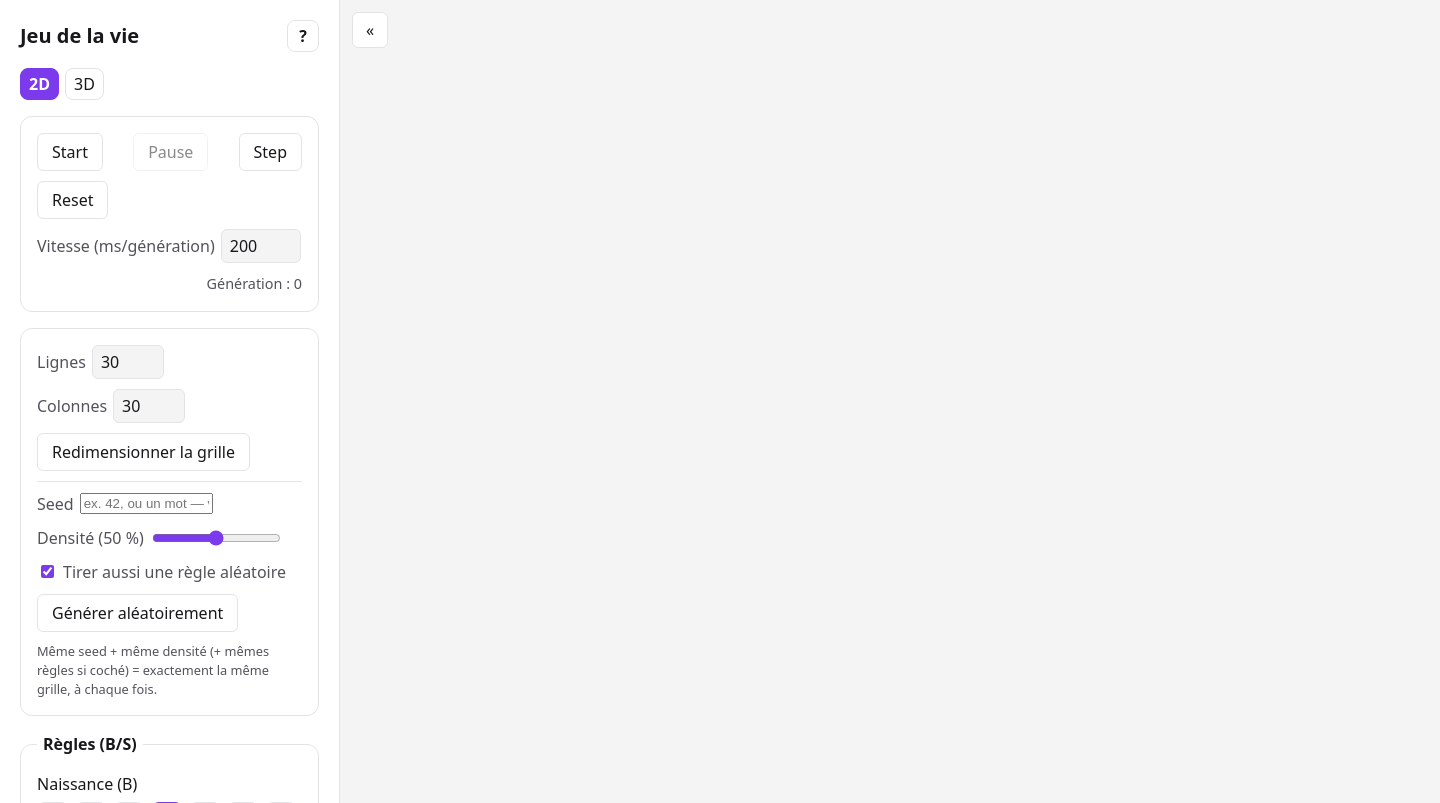
Test: App › shows the 3D targeting instructions in the help modal while in 3D
Click the button "3D". click: (84, 84)
box: x1=65 y1=68 x2=104 y2=100
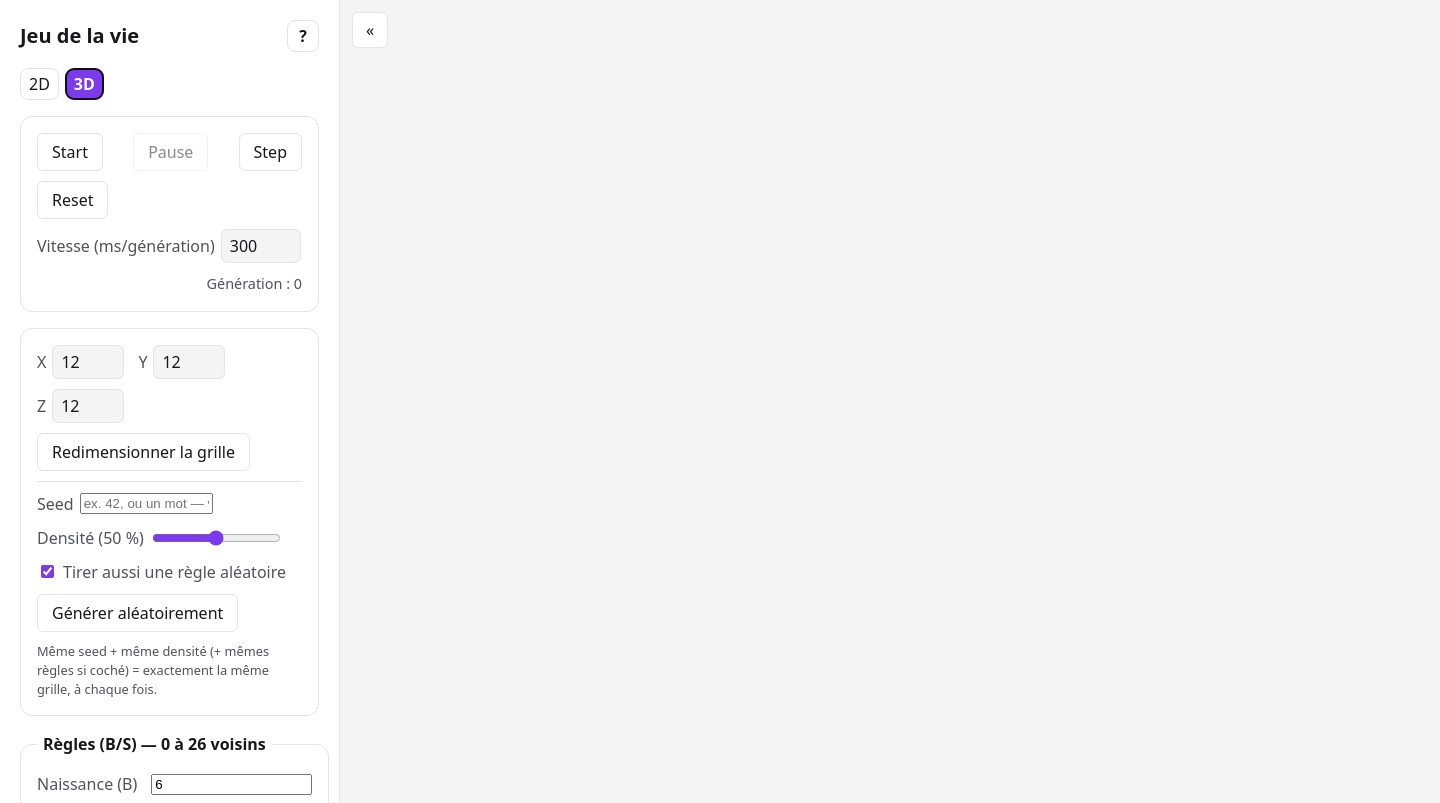
Expected: the element with test id "grid3d-canvas" is shown, x1=340 y1=0 x2=640 y2=150
Click the button named "Aide". click: (303, 36)
box: x1=287 y1=20 x2=319 y2=52
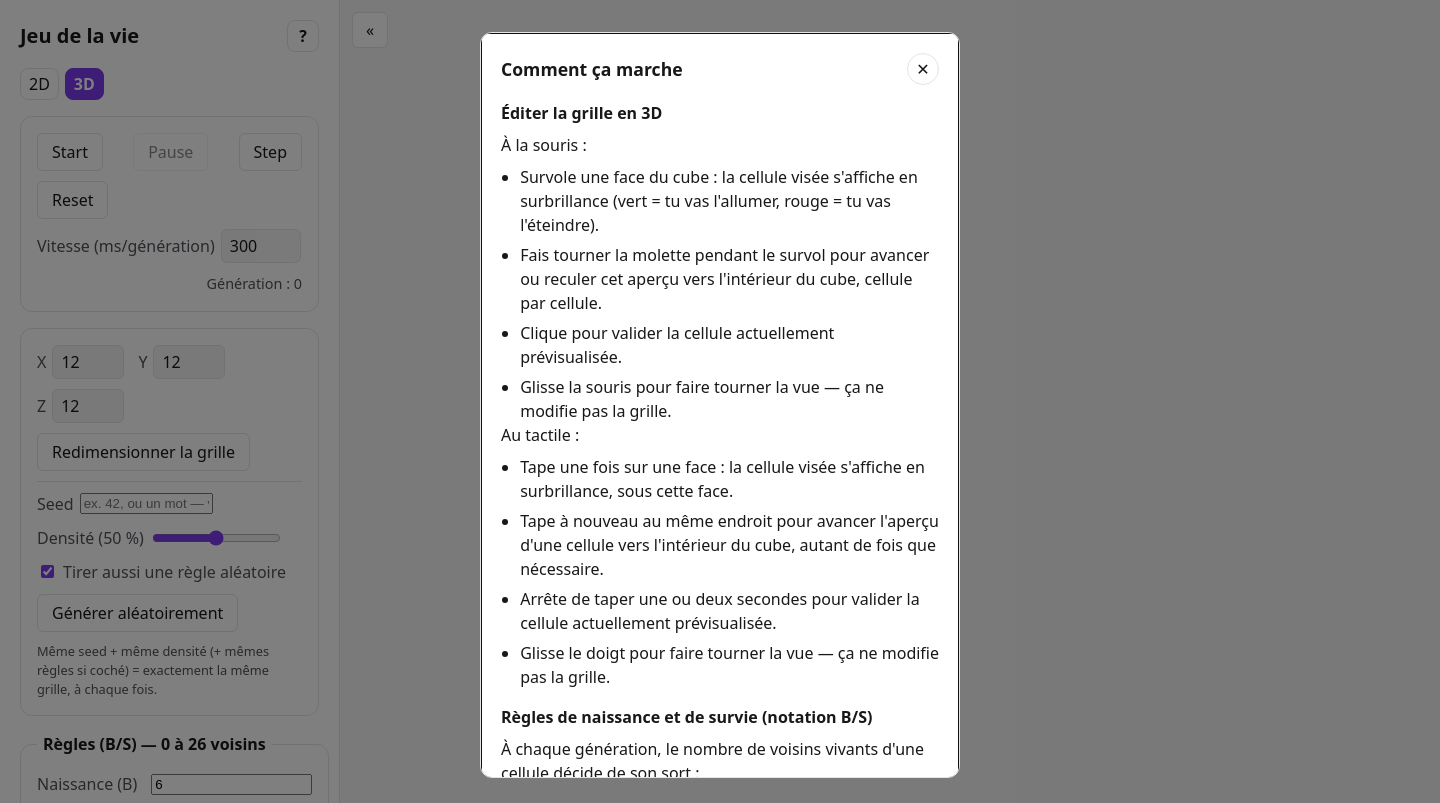
Expected: the heading "Éditer la grille en 3D" is shown, x1=501 y1=102 x2=662 y2=124
